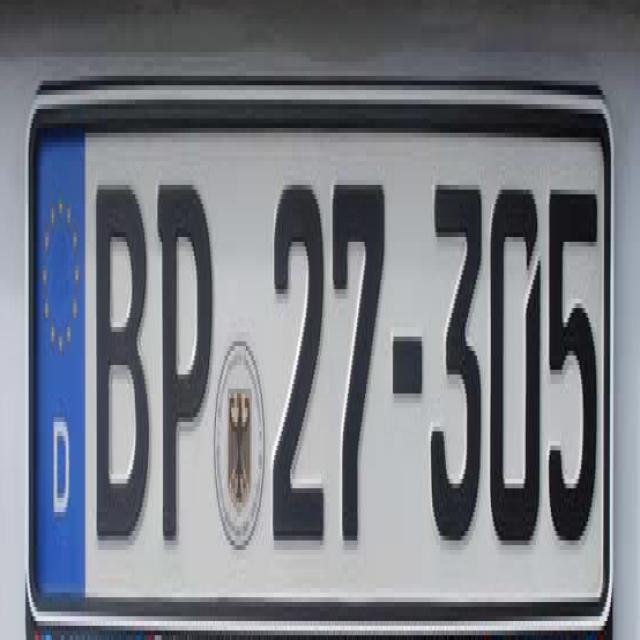Allemagne: (26, 89, 92, 613)
EU: (22, 65, 614, 640)
